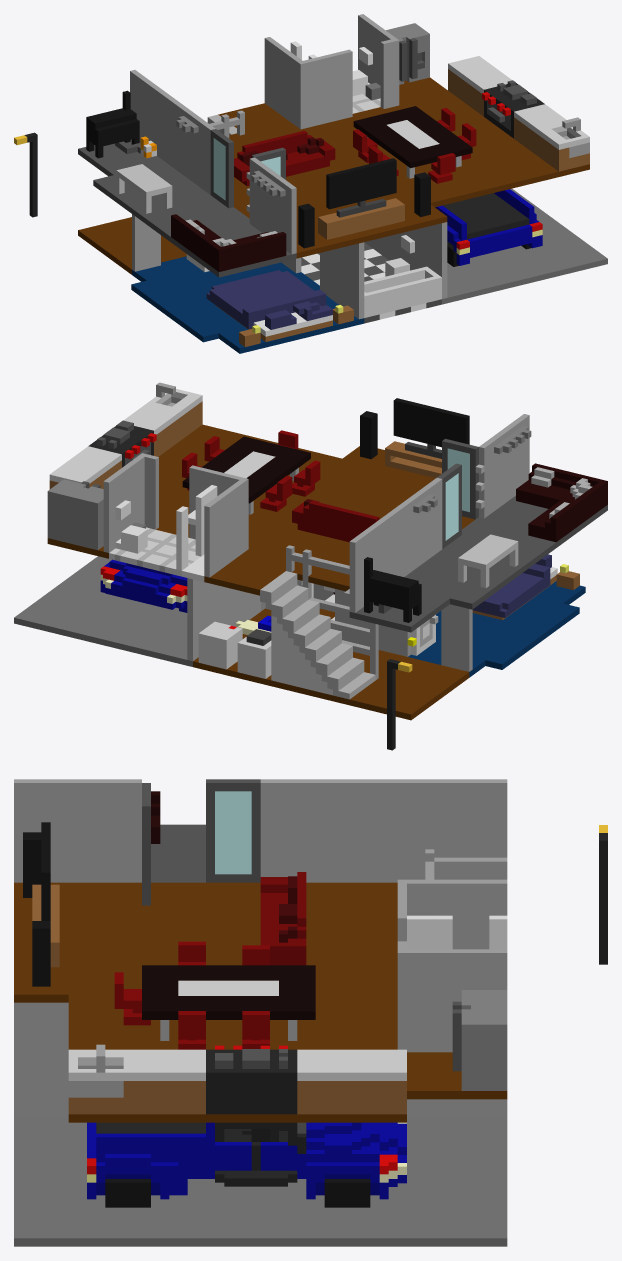
Rendered from interior.glb.
The picture shows the model from 3 angles, top to bottom: view 1: azimuth 30°, elevation 25°; view 2: azimuth 150°, elevation 25°; view 3: azimuth 270°, elevation 25°; orthographic projection. The views are drawn at different scales.
Parts seen in each view (by area): view 1: Untitled; view 2: Untitled; view 3: Untitled.
Part boxes in pixels (box(x1,y1,x2,y2)): Untitled: box(14, 14, 607, 353); Untitled: box(14, 382, 607, 750); Untitled: box(14, 779, 607, 1246).
Size of the model in its own units: 7.7 by 2.8 by 6.5.
Materials: 1 (1 with a texture image).
